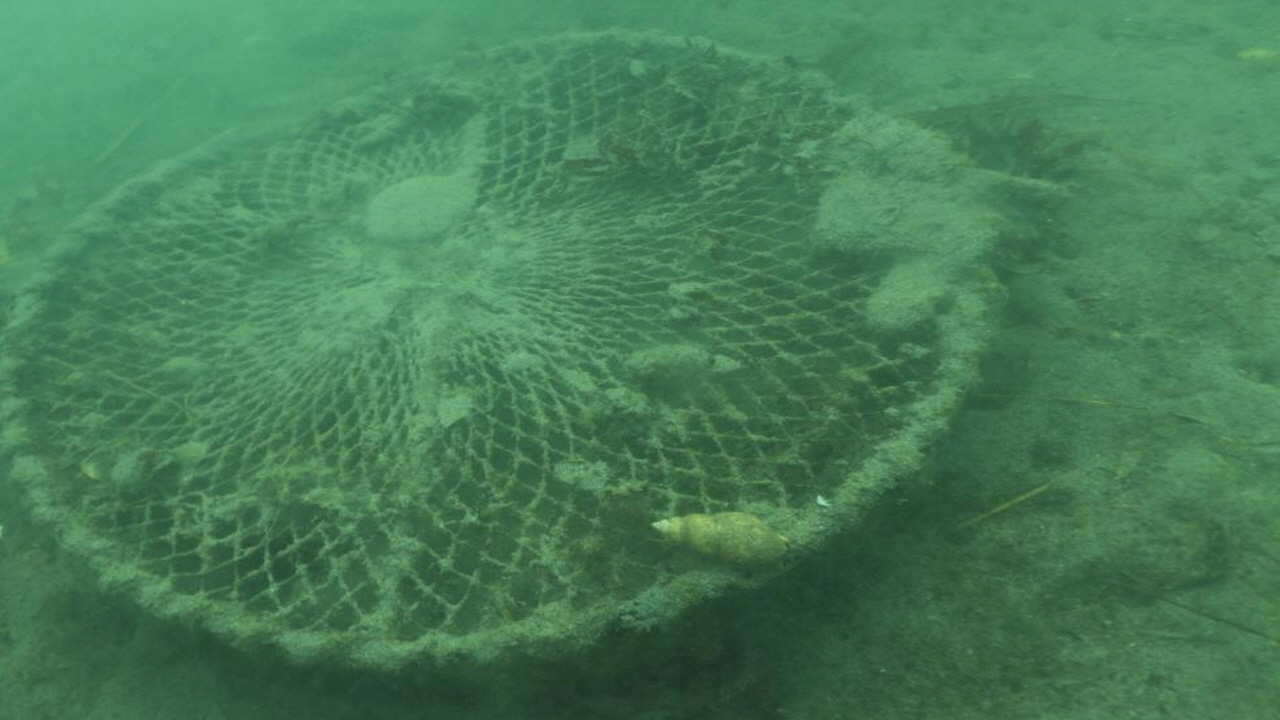circular fish trap: (0, 25, 988, 670)
